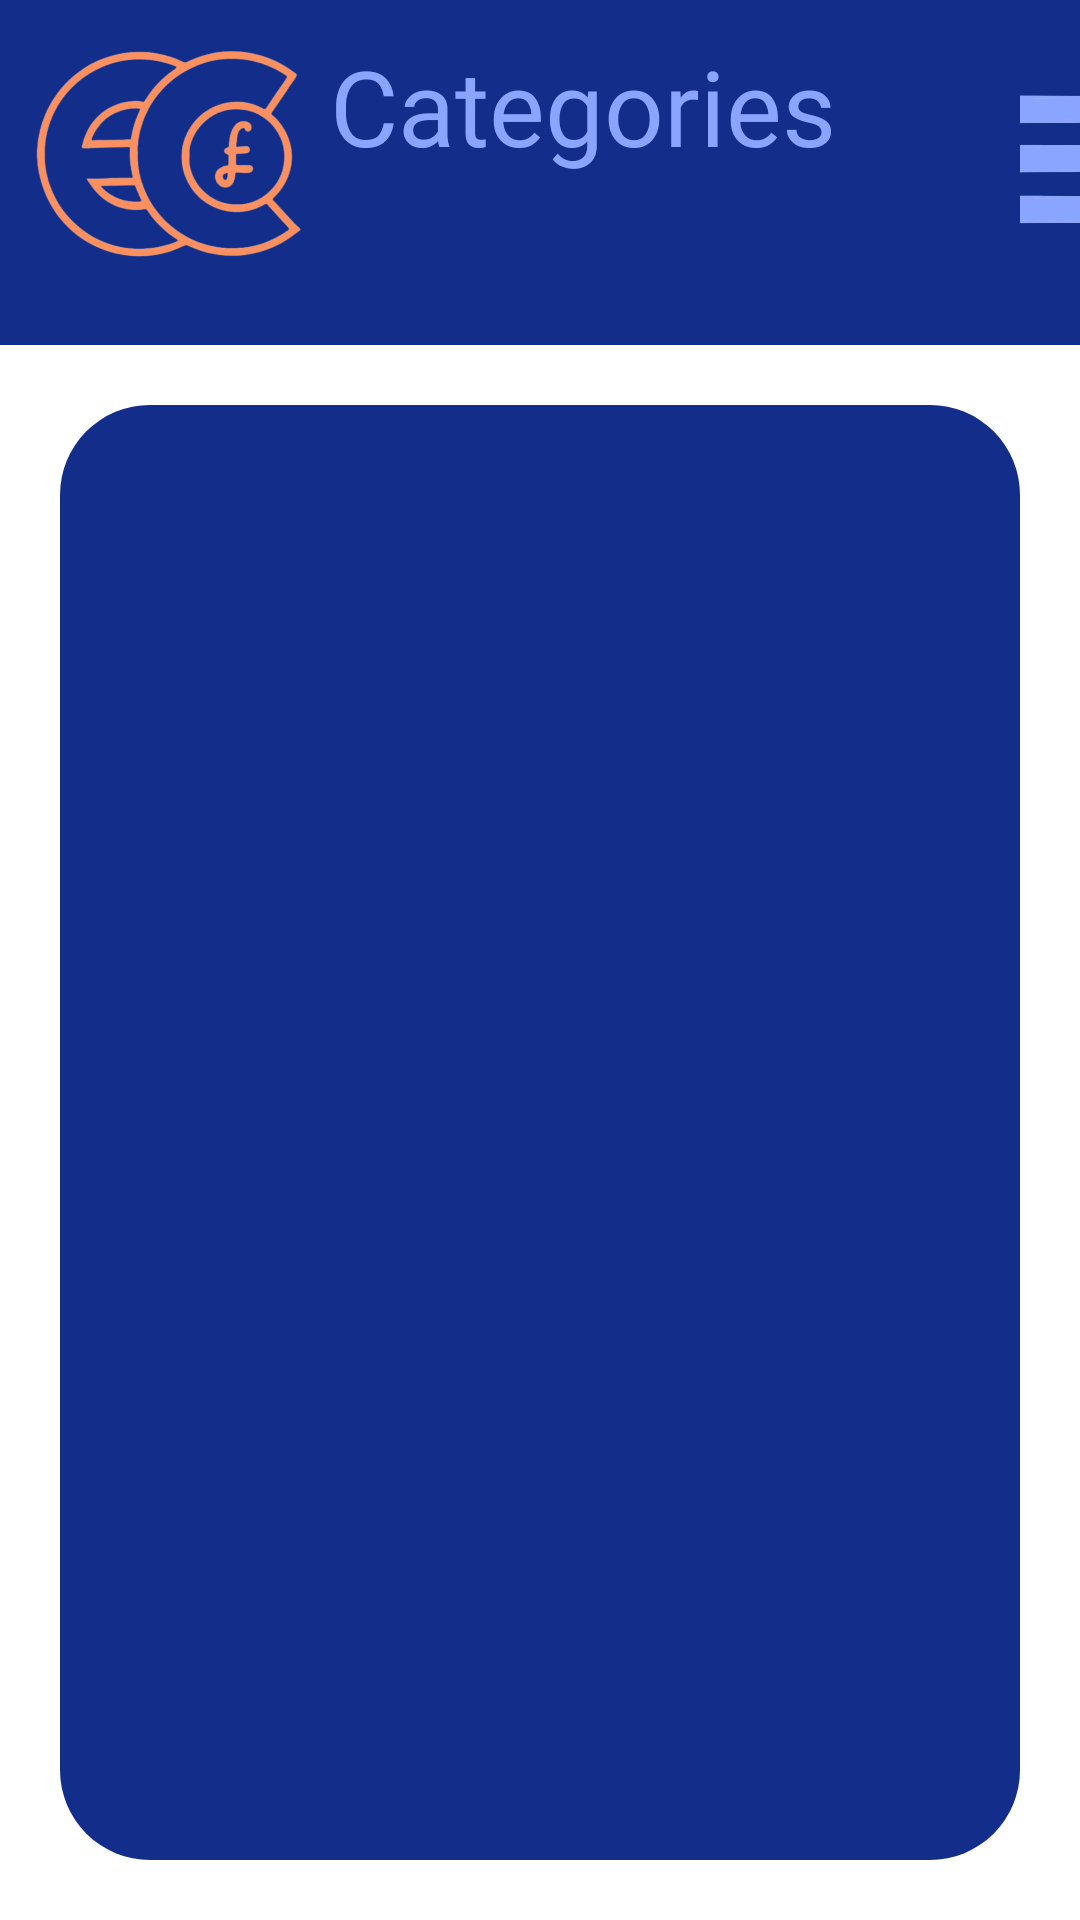

Where to tap for icons on this 1080px×1920px app screen, as (x=x, y=y):
menu: (x=1050, y=159)
